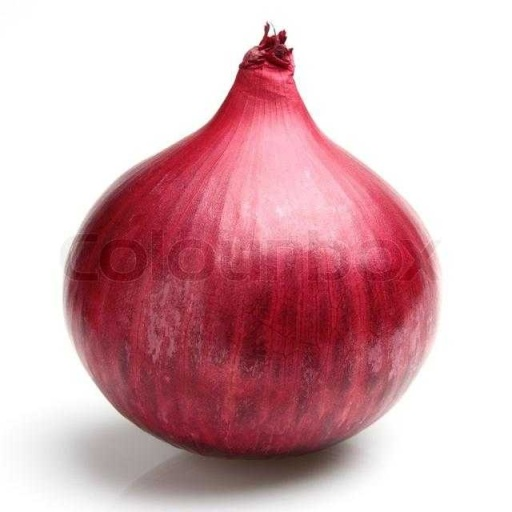Zwiebel: (62, 20, 440, 459)
